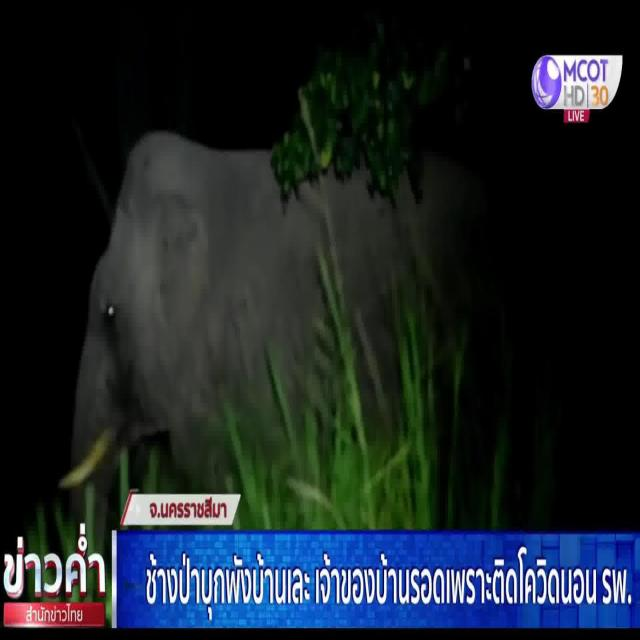Elephant: (51, 88, 360, 484)
